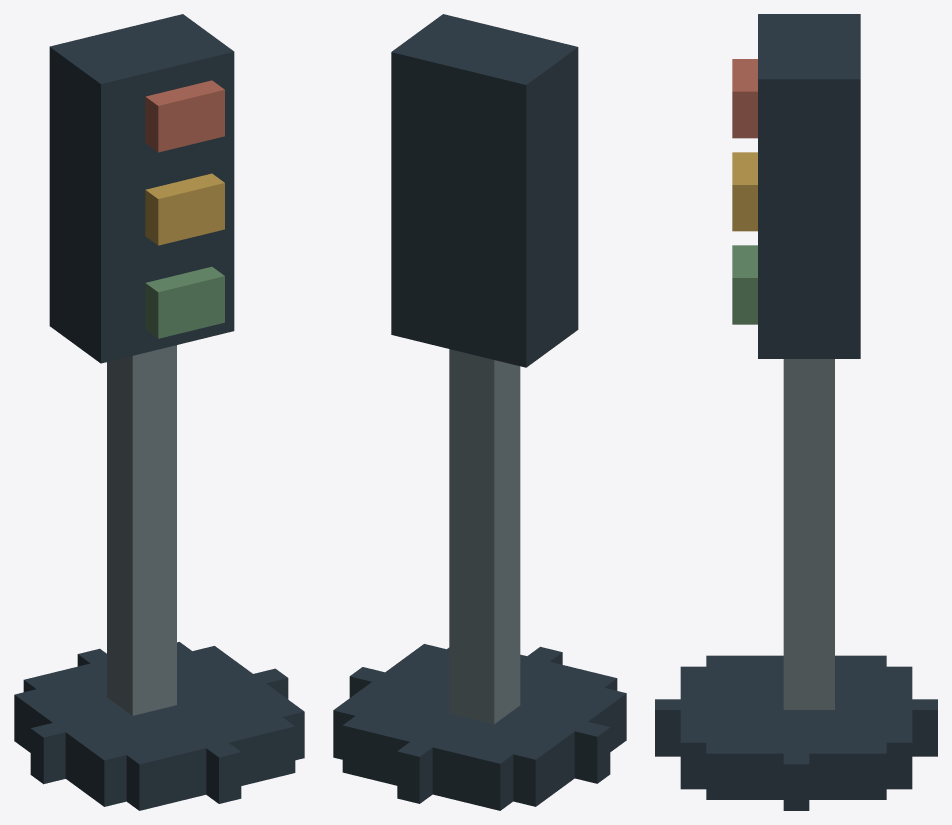
Rendered from energy-18.glb.
The picture shows the model from 3 angles, left to right: view 1: azimuth 30°, elevation 25°; view 2: azimuth 150°, elevation 25°; view 3: azimuth 270°, elevation 25°; orthographic projection.
Parts seen in each view (by area): view 1: Warning beacon; view 2: Warning beacon; view 3: Warning beacon.
Boxes of the visible parts, x1=… form: Warning beacon: x1=14, y1=14, x2=304, y2=810; Warning beacon: x1=333, y1=14, x2=626, y2=810; Warning beacon: x1=655, y1=14, x2=937, y2=810.
Bounding box in the file's own units: 0.88 × 2.4 × 0.88.
